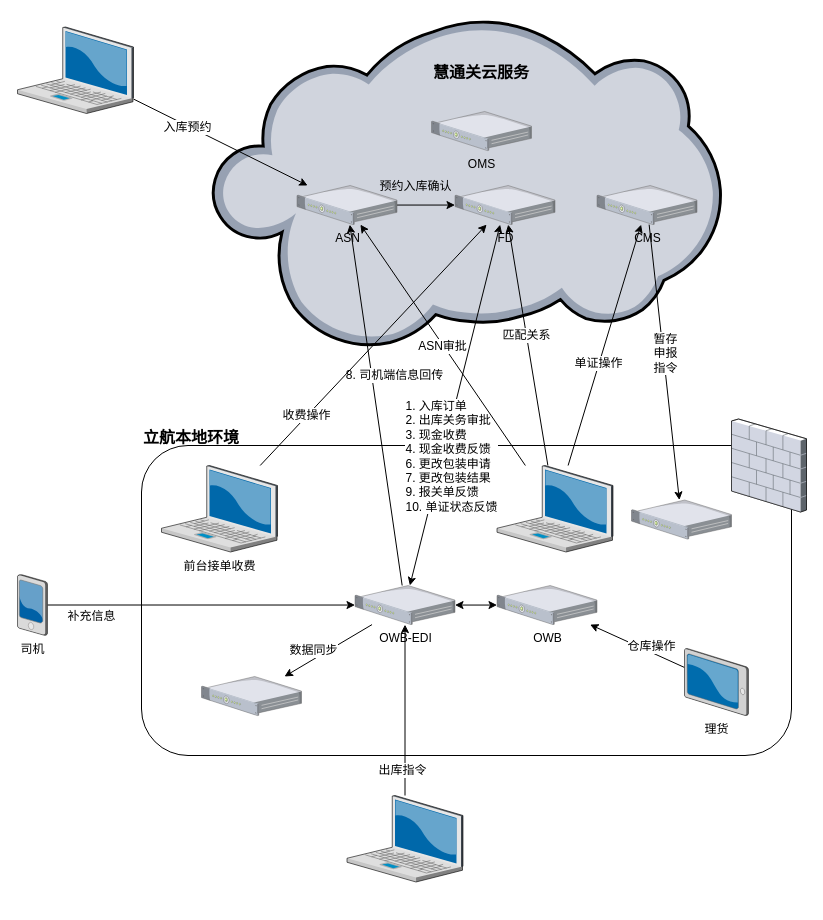
This 823x920 diagram has some shape labels left out. Each missing label, with the centre of its shape:
"单一窗口代理" belongs at (x=681, y=519).
"单证" belongs at (x=554, y=508).
"工厂" belongs at (x=75, y=69).
"海关同步数据库" belongs at (x=251, y=695).
"货代" belongs at (x=404, y=838).
